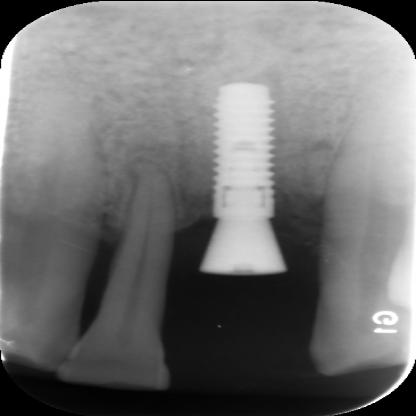ITI: (196, 80, 294, 222)
